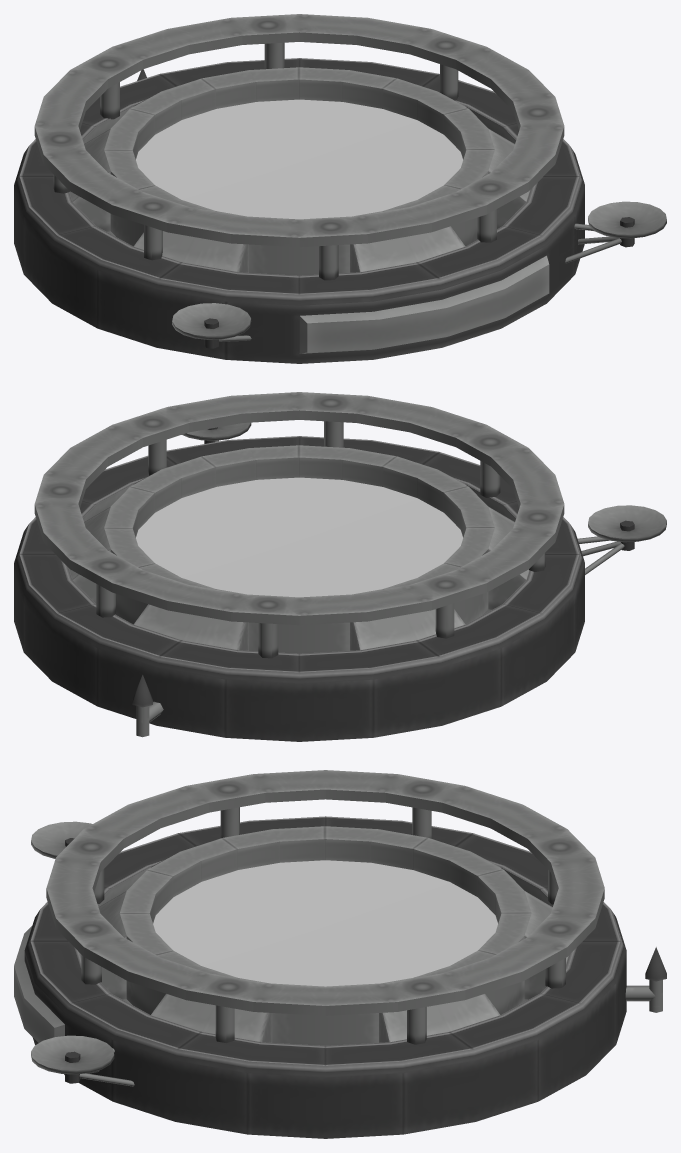
Rendered from MOL_DockingPort.dae.
The picture shows the model from 3 angles, top to bottom: view 1: azimuth 30°, elevation 25°; view 2: azimuth 150°, elevation 25°; view 3: azimuth 270°, elevation 25°; orthographic projection. The views are drawn at different scales.
Visible parts, largest first — view 1: MOL_ActiveDockingModule2_DockingSystemThing2, DockingRing, polySurface19; view 2: MOL_ActiveDockingModule2_DockingSystemThing2, DockingRing, polySurface19; view 3: MOL_ActiveDockingModule2_DockingSystemThing2, DockingRing, polySurface19.
Part boxes in pixels (x1,y1,x2,y2): MOL_ActiveDockingModule2_DockingSystemThing2: (14, 58, 666, 363); DockingRing: (34, 14, 564, 280); polySurface19: (136, 99, 462, 219); MOL_ActiveDockingModule2_DockingSystemThing2: (14, 422, 666, 741); DockingRing: (34, 392, 564, 658); polySurface19: (136, 477, 462, 597); MOL_ActiveDockingModule2_DockingSystemThing2: (14, 816, 666, 1138); DockingRing: (46, 770, 604, 1044); polySurface19: (153, 860, 497, 986).
Size of what is drawn, in the model's own units: 1.88 by 0.4252 by 2.03.
